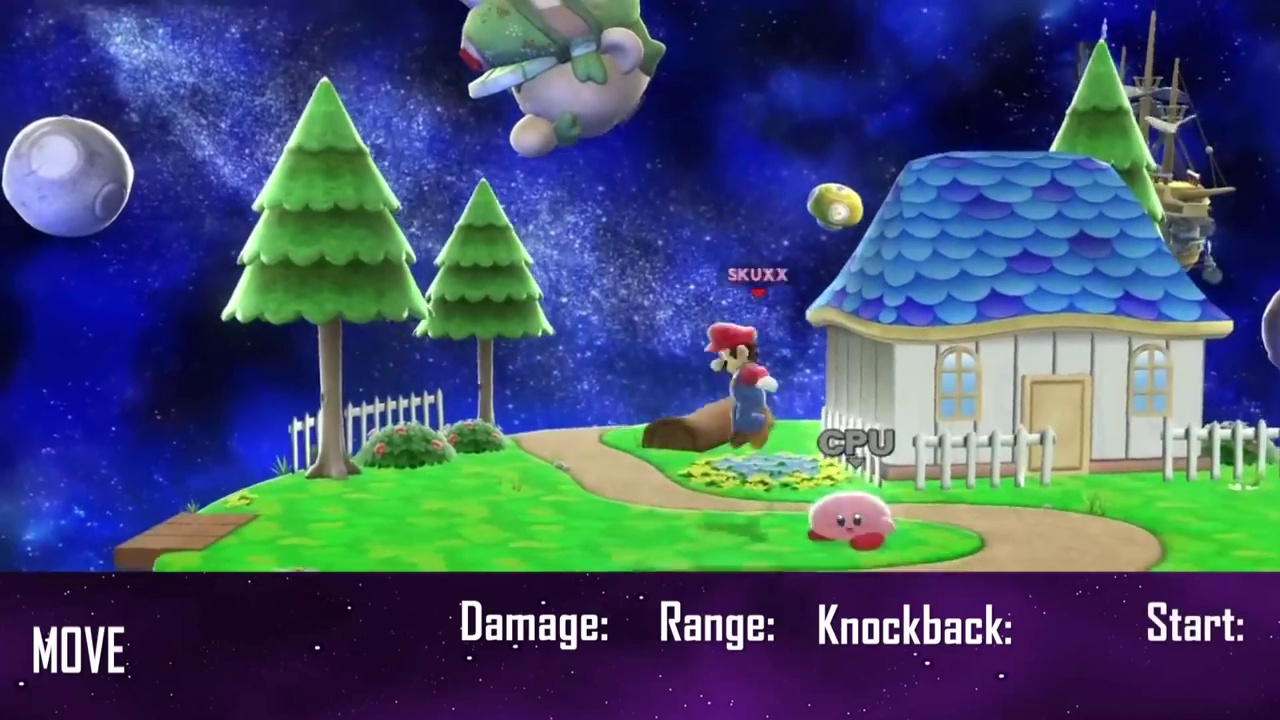Mario: (704, 324, 776, 450)
